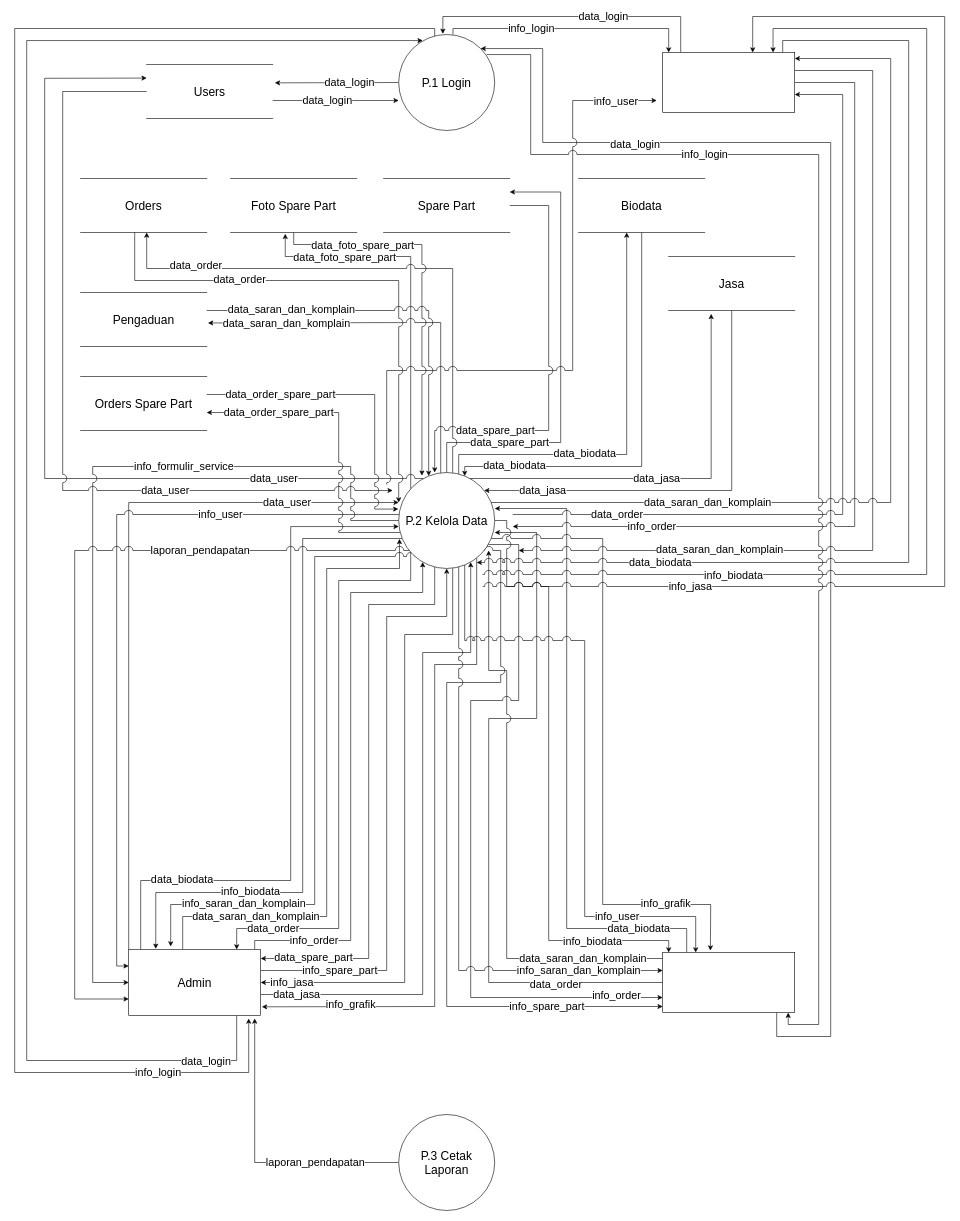
The diagram is 960 pixels wide and 1221 high, and some of its shapes have lost their labels. Each missing label, with the centre of its shape:
"Teknisi" belongs at (728,982).
"User" belongs at (728,82).
